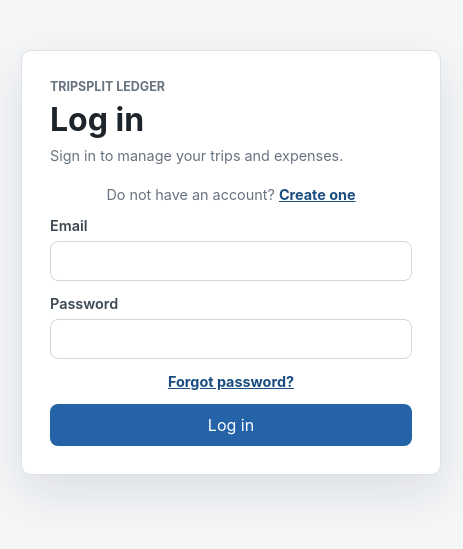
Test case: Login flow › shows the server error message when login fails
Type "alex@example.com" into the field labelled "Email" at (231, 260), box [50,240,412,280]
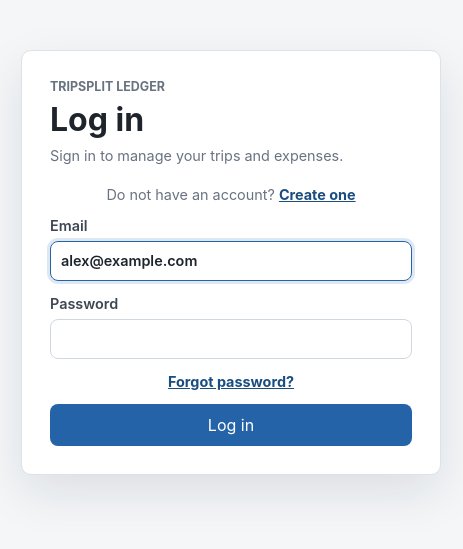
Type "wrong-password" into the password field labelled "Password" at (231, 338), box [50,318,412,358]
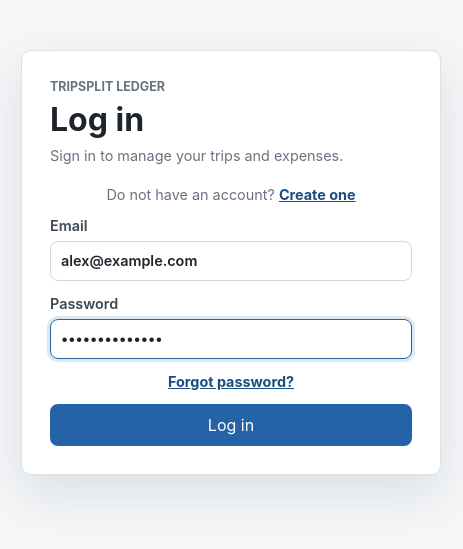
Click the button "Log in" at (231, 424), box [50,404,412,446]
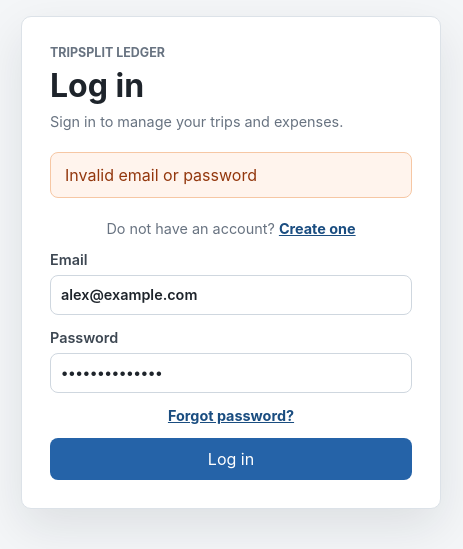
Expected: the text "Invalid email or password" is shown, [50,152,412,198]
